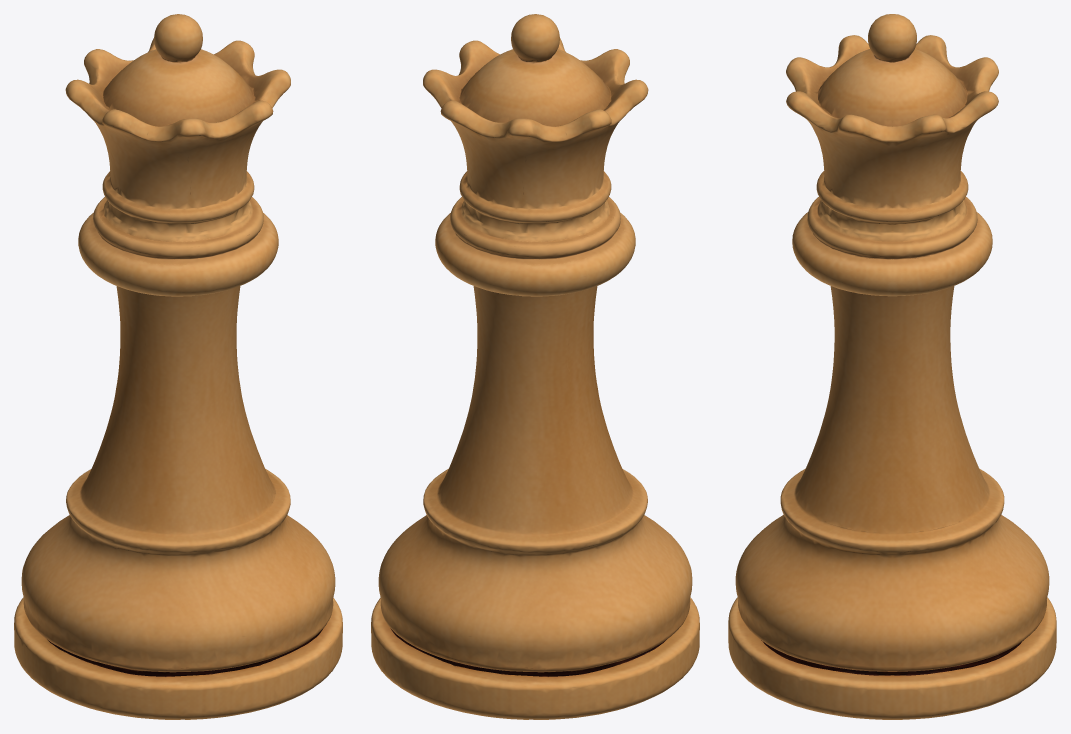
File: 03_queen_light.glb
The picture shows the model from 3 angles, left to right: view 1: azimuth 30°, elevation 25°; view 2: azimuth 150°, elevation 25°; view 3: azimuth 270°, elevation 25°; orthographic projection.
Parts seen in each view (by area): view 1: world; view 2: world; view 3: world.
Boxes of the visible parts, <box> form: world: <box>14,14,342,719</box>; world: <box>371,14,699,719</box>; world: <box>728,14,1056,719</box>.
Bounding box in the file's own units: 0.467 × 1 × 0.4668.
1 material, 1 textured.
